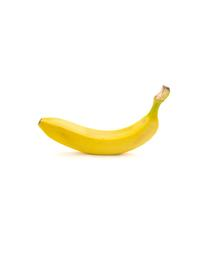banana: (36, 85, 172, 160)
